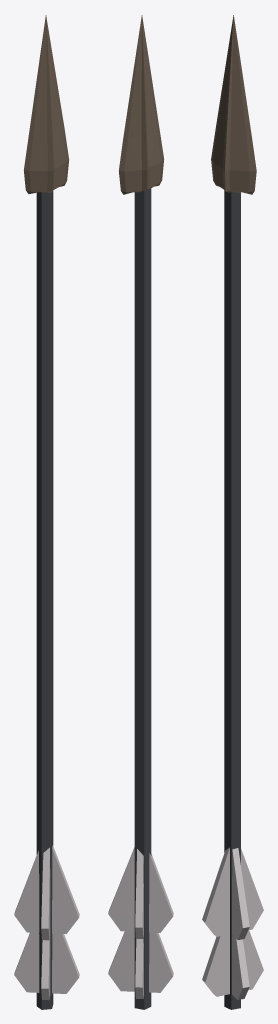
The model's file is _arrow_b_11.glb.
The picture shows the model from 3 angles, left to right: view 1: azimuth 30°, elevation 25°; view 2: azimuth 210°, elevation 25°; view 3: azimuth 330°, elevation 25°; orthographic projection.
Parts seen in each view (by area): view 1: arrow_b_11; view 2: arrow_b_11; view 3: arrow_b_11.
Part boxes in pixels (x1,y1,x2,y2): arrow_b_11: [14, 15, 79, 1009]; arrow_b_11: [108, 15, 173, 1009]; arrow_b_11: [202, 15, 263, 1009].
Bounding box in the file's own units: 1113 × 21256 × 1137.
1 material, 1 textured.
